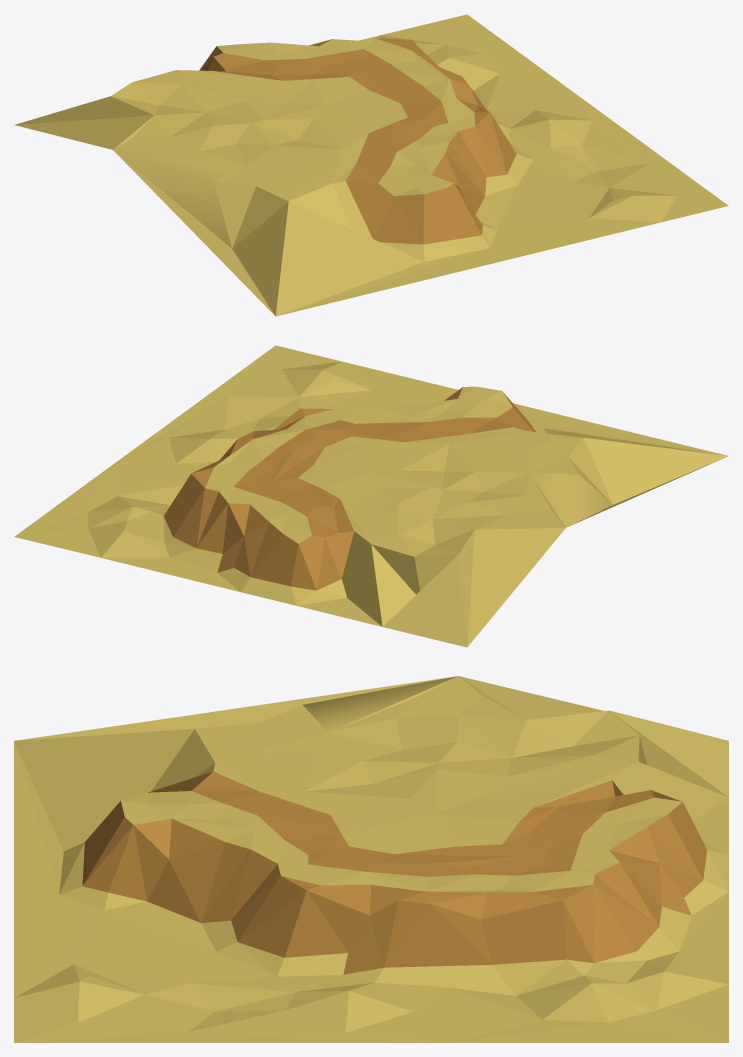
File: Terrain_1.fbx
3 views of the same model, one above another, from view 1: azimuth 30°, elevation 25°; view 2: azimuth 150°, elevation 25°; view 3: azimuth 270°, elevation 25° (orthographic). The views are drawn at different scales.
Visible parts, largest first — view 1: Terrain_1; view 2: Terrain_1; view 3: Terrain_1.
Part boxes in pixels (left/top/right/bottom): Terrain_1: left=15, top=14, right=728, bottom=316; Terrain_1: left=14, top=345, right=728, bottom=647; Terrain_1: left=14, top=676, right=728, bottom=1042.
Size of the model in its own units: 2000 by 229 by 2000.
